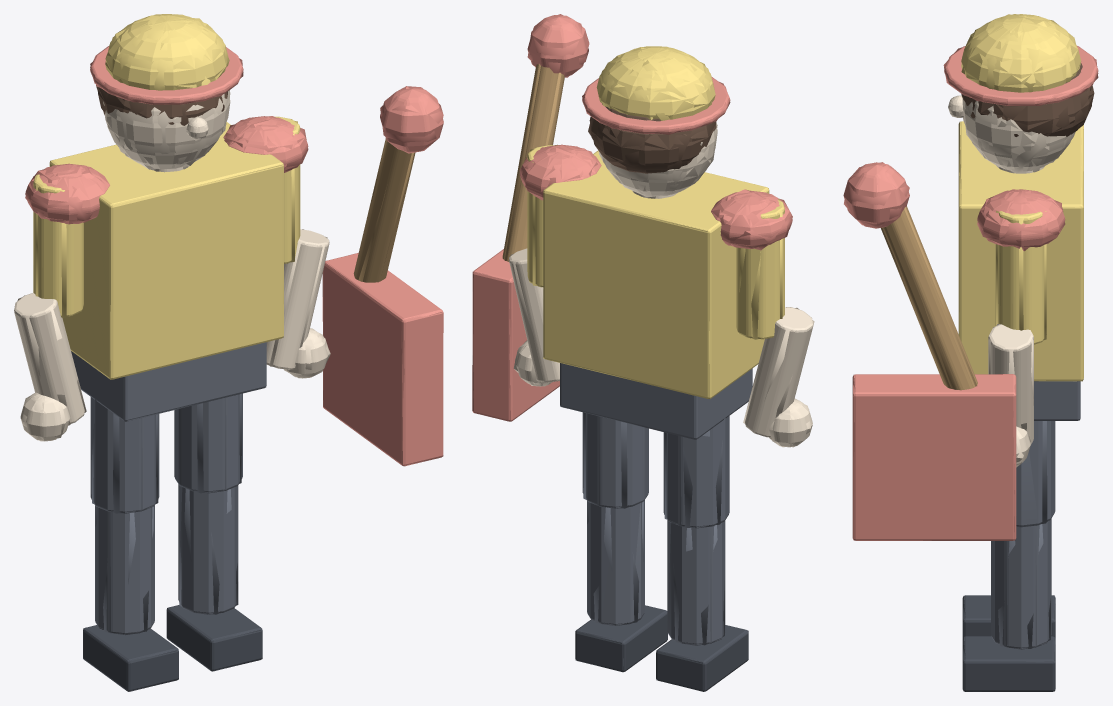
The model's file is SM_Leonidas.fbx.
3 renders of one model, left to right at view 1: azimuth 30°, elevation 25°; view 2: azimuth 150°, elevation 25°; view 3: azimuth 270°, elevation 25°, orthographic. The views are drawn at different scales.
Visible parts, largest first — view 1: LOD0_SM_Leonidas, LOD3_SM_Leonidas, LOD1_SM_Leonidas, LOD2_SM_Leonidas; view 2: LOD0_SM_Leonidas, LOD1_SM_Leonidas, LOD3_SM_Leonidas, LOD2_SM_Leonidas; view 3: LOD0_SM_Leonidas, LOD1_SM_Leonidas, LOD3_SM_Leonidas, LOD2_SM_Leonidas.
Boxes of the visible parts, x1,y1,x2,y2 form: LOD0_SM_Leonidas: [14, 14, 443, 691]; LOD3_SM_Leonidas: [14, 15, 443, 632]; LOD1_SM_Leonidas: [14, 14, 443, 691]; LOD2_SM_Leonidas: [14, 14, 442, 691]; LOD0_SM_Leonidas: [472, 15, 813, 691]; LOD1_SM_Leonidas: [472, 15, 813, 691]; LOD3_SM_Leonidas: [504, 14, 814, 645]; LOD2_SM_Leonidas: [472, 37, 812, 691]; LOD0_SM_Leonidas: [844, 14, 1098, 691]; LOD1_SM_Leonidas: [843, 14, 1098, 691]; LOD3_SM_Leonidas: [844, 14, 1098, 648]; LOD2_SM_Leonidas: [853, 14, 1098, 691].
Bounding box in the file's own units: 0.858 × 1.46 × 0.5291.
